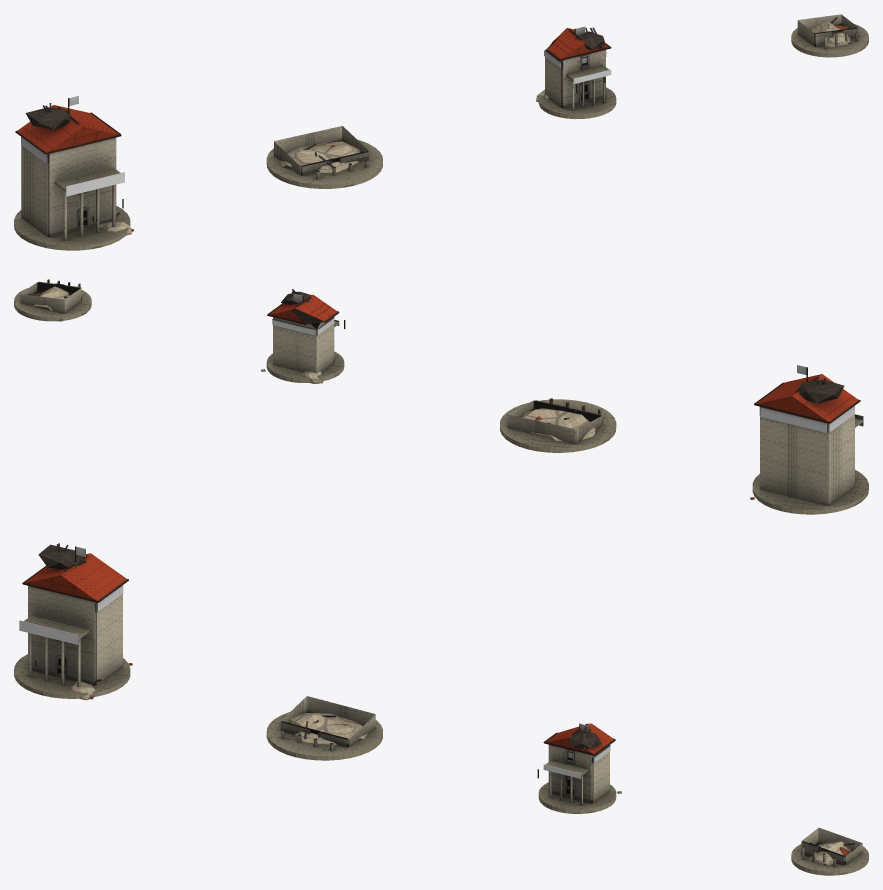
Rendered from palace-damage-classical-4edf09d6.glb.
3 renders of one model, top to bottom at view 1: azimuth 30°, elevation 25°; view 2: azimuth 150°, elevation 25°; view 3: azimuth 330°, elevation 25°, orthographic.
Visible parts, largest first — view 1: LOD0, LOD0.002, LOD0.001, LOD0.003; view 2: LOD0, LOD0.002, LOD0.001, LOD0.003; view 3: LOD0, LOD0.002, LOD0.001, LOD0.003.
Boxes of the visible parts, x1,y1,x2,y2 form: LOD0: [14, 96, 133, 250]; LOD0.002: [536, 26, 616, 119]; LOD0.001: [266, 126, 382, 188]; LOD0.003: [791, 14, 868, 57]; LOD0: [750, 365, 868, 514]; LOD0.002: [261, 289, 345, 383]; LOD0.001: [500, 398, 616, 452]; LOD0.003: [14, 279, 91, 321]; LOD0: [14, 543, 132, 700]; LOD0.002: [537, 723, 621, 813]; LOD0.001: [266, 696, 382, 760]; LOD0.003: [791, 827, 868, 875].
Size of what is drawn, in the model's own units: 10 by 1.42 by 1.2.
Materials: 2 (2 with a texture image).
